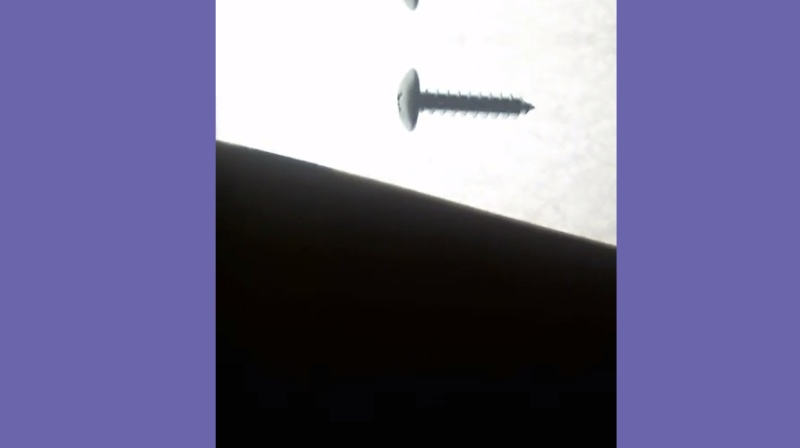S003: (391, 64, 537, 133)
